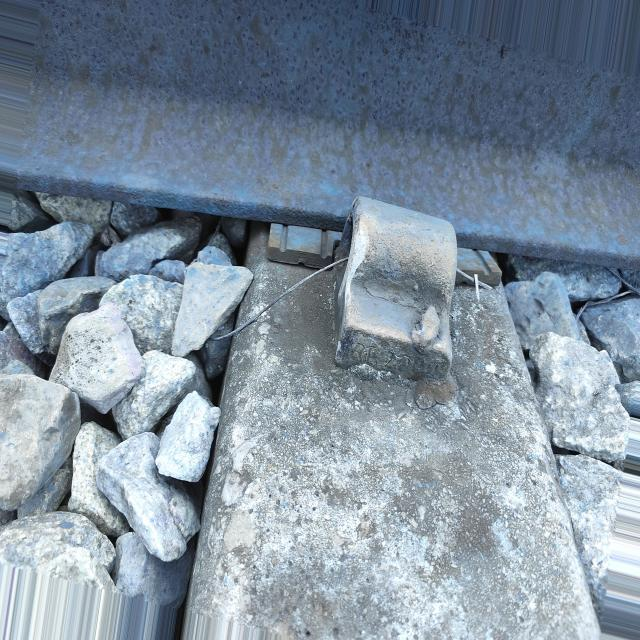Missing Fastener: (217, 184, 532, 428)
